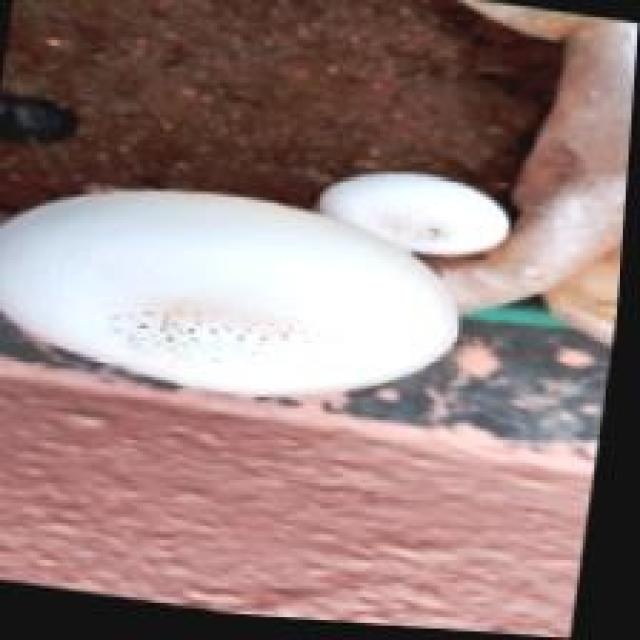death-cap: (3, 183, 463, 397)
